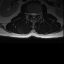CCS_normal: (32, 10, 34, 20)
LFS_normal: (37, 10, 39, 17)
LLS_normal: (34, 10, 37, 18)
RFS_normal: (28, 10, 31, 17)
RLS_normal: (30, 10, 33, 18)
